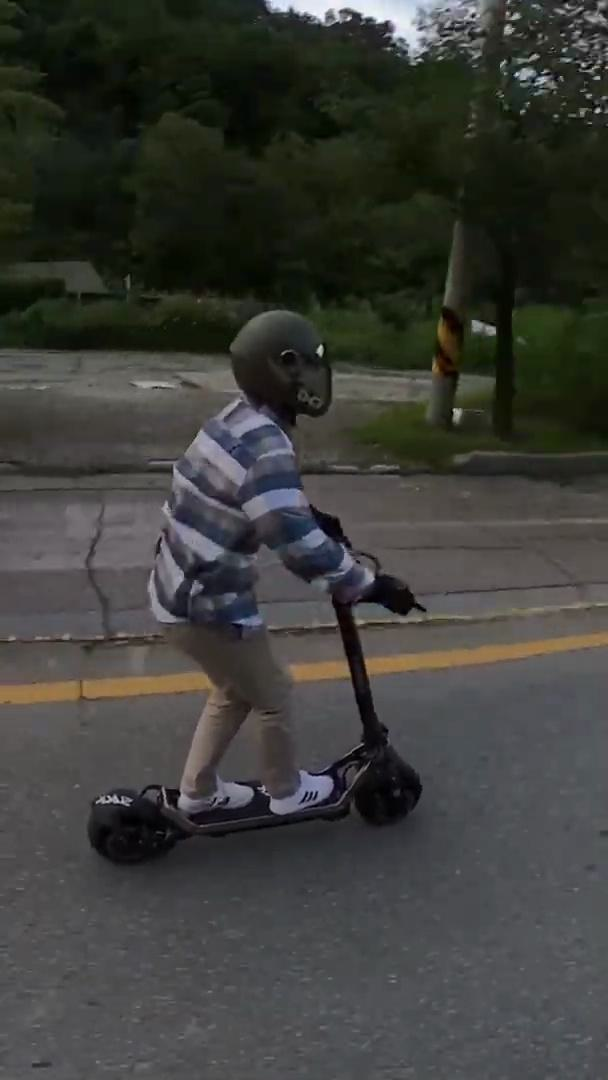helmet: (82, 305, 431, 868)
